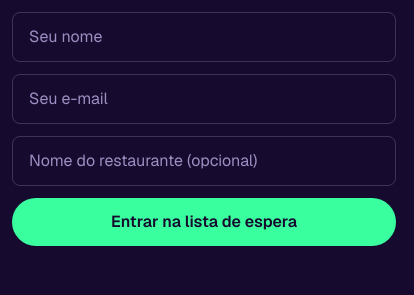
ListaEsperaForm › mostra a mensagem de erro devolvida pela API sem trocar pra tela de sucesso
The width and height of the screenshot is (414, 295).
Type "Dono" into the field with placeholder "Seu nome" at (204, 37), box [12, 12, 396, 62]
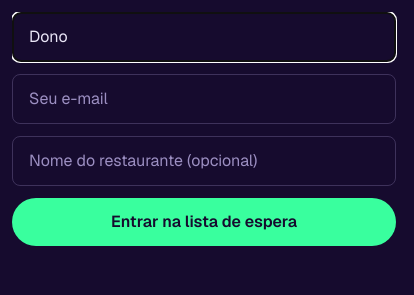
Type "dono@exemplo.com" into the field with placeholder "Seu e-mail" at (204, 99), box [12, 74, 396, 124]
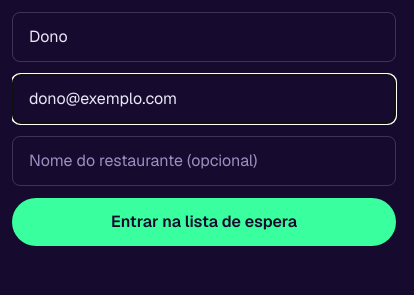
Click the button "Entrar na lista de espera" at (204, 222), box [12, 198, 396, 246]
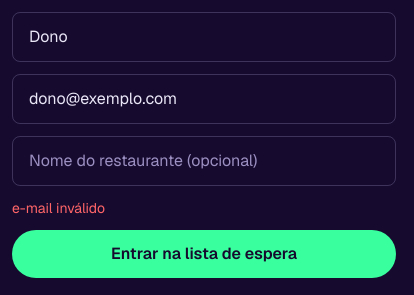
expect the text "e-mail inválido" is shown: met, box [12, 199, 105, 217]
